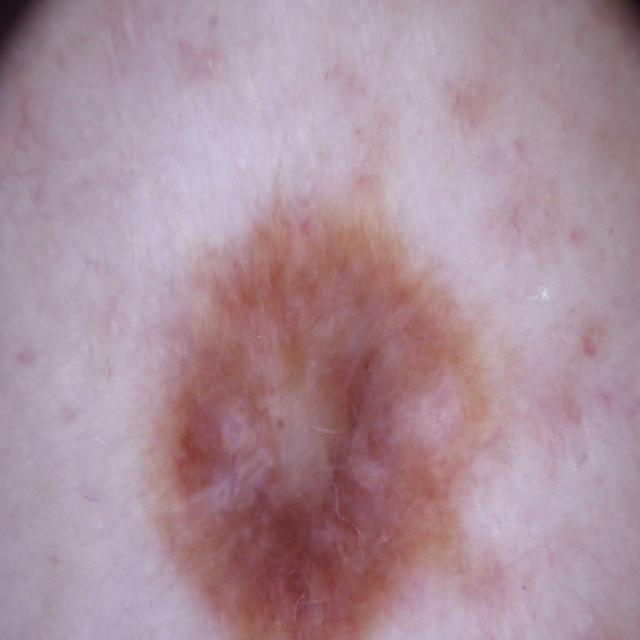Dermatofibroma: (124, 193, 519, 640)
